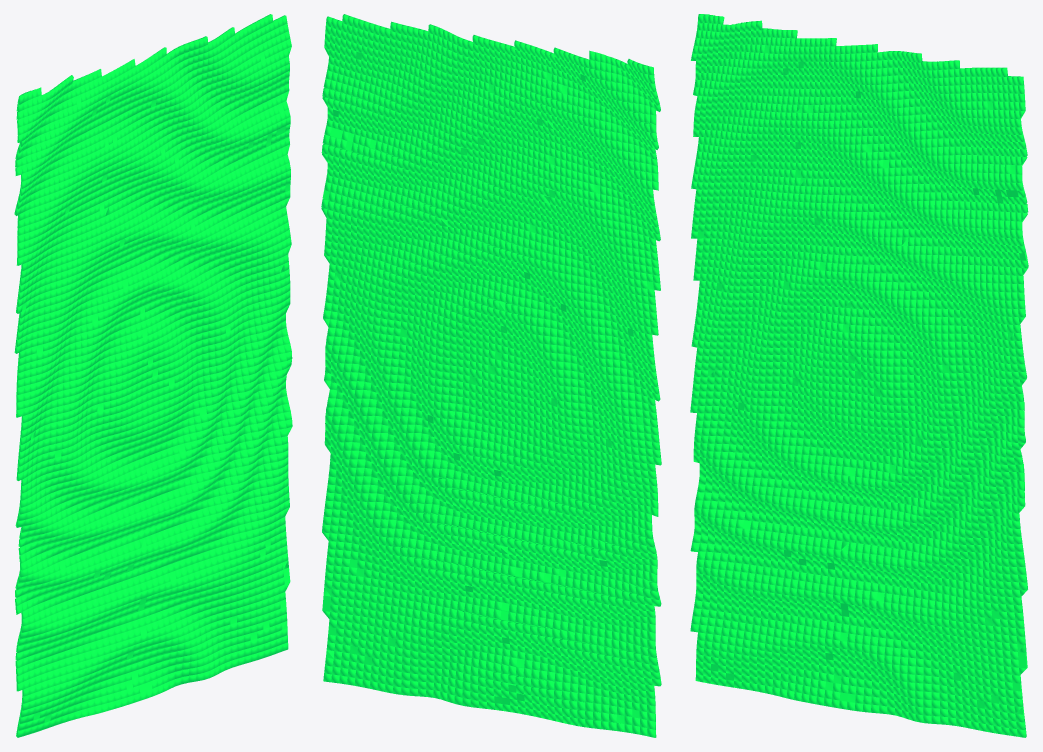
Rendered from portale.fbx.
The picture shows the model from 3 angles, left to right: view 1: azimuth 30°, elevation 25°; view 2: azimuth 150°, elevation 25°; view 3: azimuth 330°, elevation 25°; orthographic projection. The views are drawn at different scales.
Parts seen in each view (by area): view 1: Object_10; view 2: Object_10; view 3: Object_10.
Boxes of the visible parts, <box> form: Object_10: <box>14,14,292,737</box>; Object_10: <box>321,14,661,737</box>; Object_10: <box>690,14,1028,737</box>.
Bounding box in the file's own units: 106 × 220 × 17.06.
